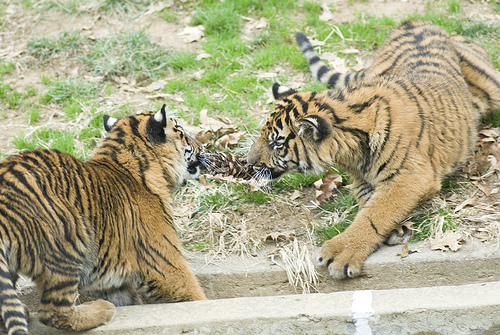Tigre: (257, 29, 500, 245), (1, 98, 218, 319)
